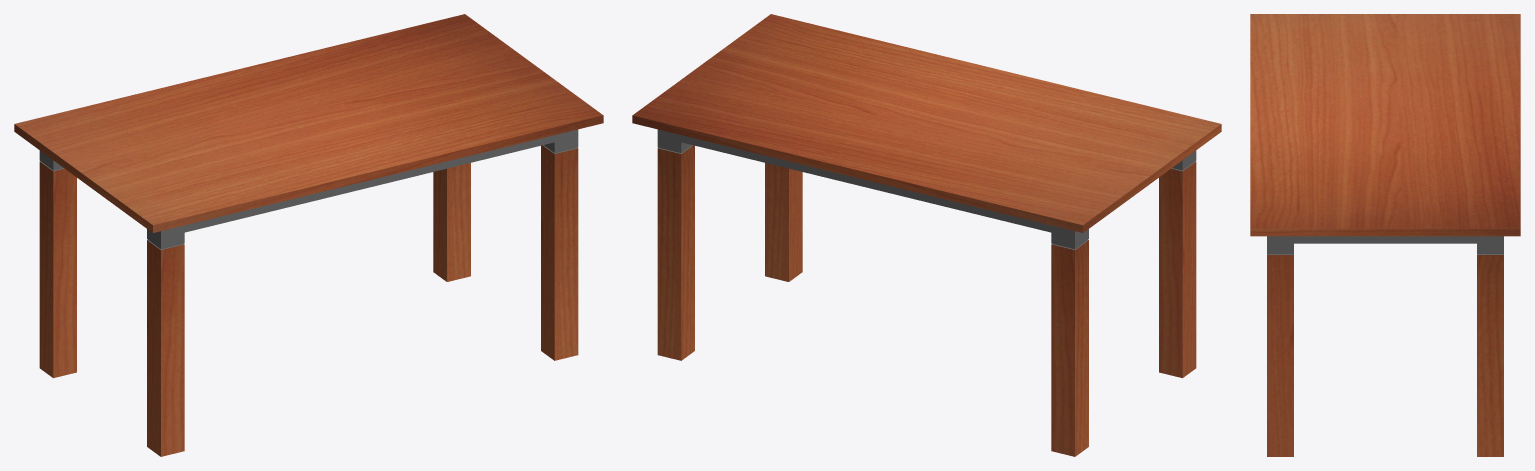
The model's file is wooden_table_office.obj.
3 renders of one model, left to right at view 1: azimuth 30°, elevation 25°; view 2: azimuth 150°, elevation 25°; view 3: azimuth 270°, elevation 25°, orthographic. The views are drawn at different scales.
Parts seen in each view (by area): view 1: woodred_woodred.jpg_woodred_woodred.jpg_woodred_woodred.j_woodre, alumain_alumain_alumain.001; view 2: woodred_woodred.jpg_woodred_woodred.jpg_woodred_woodred.j_woodre, alumain_alumain_alumain.001; view 3: woodred_woodred.jpg_woodred_woodred.jpg_woodred_woodred.j_woodre, alumain_alumain_alumain.001.
Part boxes in pixels (x1,y1,x2,y2): woodred_woodred.jpg_woodred_woodred.jpg_woodred_woodred.j_woodre: [14, 14, 603, 456]; alumain_alumain_alumain.001: [39, 129, 578, 249]; woodred_woodred.jpg_woodred_woodred.jpg_woodred_woodred.j_woodre: [632, 14, 1221, 456]; alumain_alumain_alumain.001: [657, 129, 1196, 249]; woodred_woodred.jpg_woodred_woodred.jpg_woodred_woodred.j_woodre: [1250, 14, 1520, 456]; alumain_alumain_alumain.001: [1267, 236, 1503, 254].
Bounding box in the file's own units: 151 × 77.51 × 80.43.
2 materials, 1 textured.
